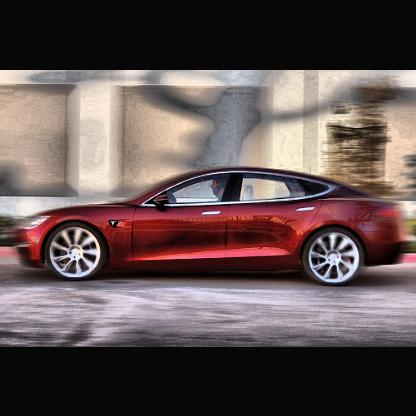Tesla Model S Sedan 2012: (13, 162, 407, 284)
